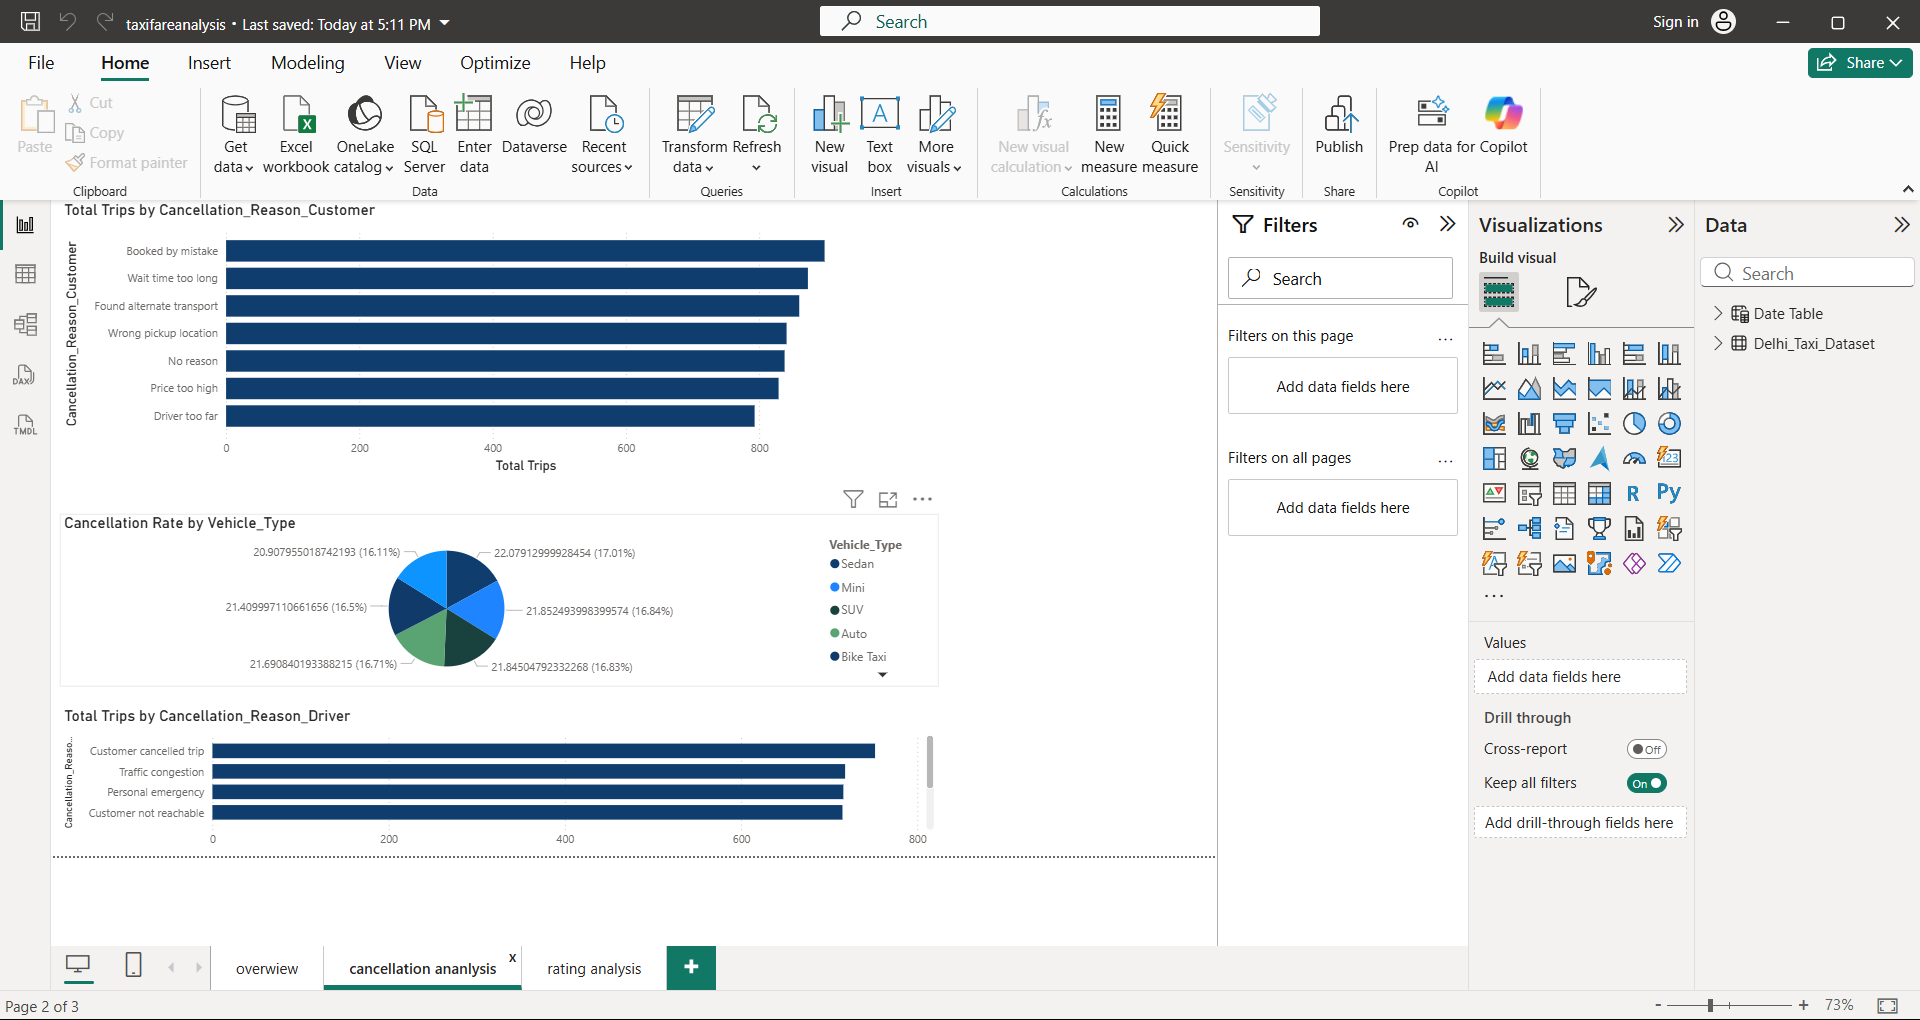

Layout of this report page (visuals, bound fields, positions):
{"tool":"powerbi","page":{"name":"cancellation ananlysis","canvas":[1280,720],"ordinal":1},"visuals":[{"type":"clusteredBarChart","fields":{"Category":["Delhi_Taxi_Dataset.Cancellation_Reason_Customer"],"Y":["Date Table.Total Trips"]},"box":[9.6,0,856.3,304.6],"z":0},{"type":"pieChart","fields":{"Category":["Delhi_Taxi_Dataset.Vehicle_Type"],"Y":["Date Table.Cancellation Rate"]},"box":[9.6,344.4,964.7,189.4],"z":1},{"type":"clusteredBarChart","fields":{"Category":["Delhi_Taxi_Dataset.Cancellation_Reason_Driver"],"Y":["Date Table.Total Trips"]},"box":[9.6,555.7,964.7,164.7],"z":2}]}

Visuals, with their boxes on the page's 1280x720 design canvas (x1, y1, x2, y2). These are canvas units, not pixel positions in the 1920x1020 screenshot, which may show the page scaled, cropped or inside an application window:
clusteredBarChart - Delhi_Taxi_Dataset.Cancellation_Reason_Customer x Date Table.Total Trips: (x1=10, y1=0, x2=866, y2=305)
pieChart - Delhi_Taxi_Dataset.Vehicle_Type x Date Table.Cancellation Rate: (x1=10, y1=344, x2=974, y2=534)
clusteredBarChart - Delhi_Taxi_Dataset.Cancellation_Reason_Driver x Date Table.Total Trips: (x1=10, y1=556, x2=974, y2=720)
